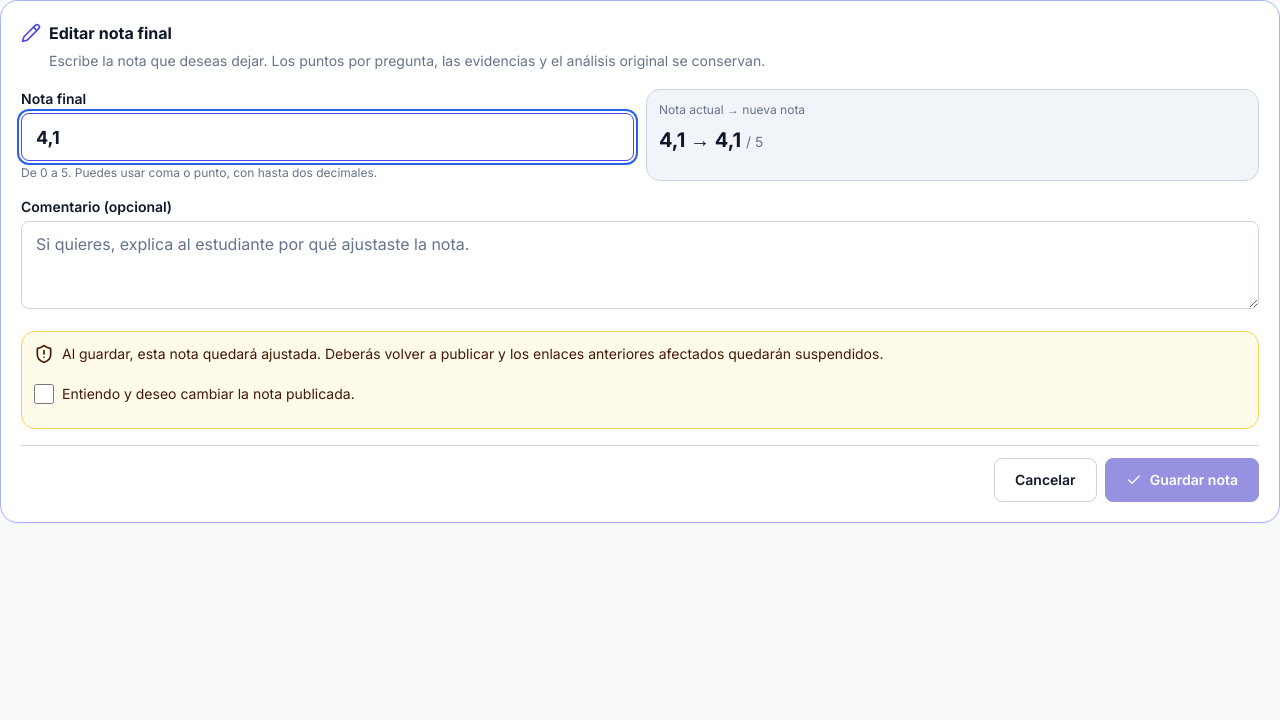
it: GradeFinalEditor › advierte antes de guardar una publicada y exige reconocer el efecto
The image size is (1280, 720).
Replace the text in the field labelled "Nota final" with "4.5". click: coordinates (328, 137)
box: [21,113,634,161]
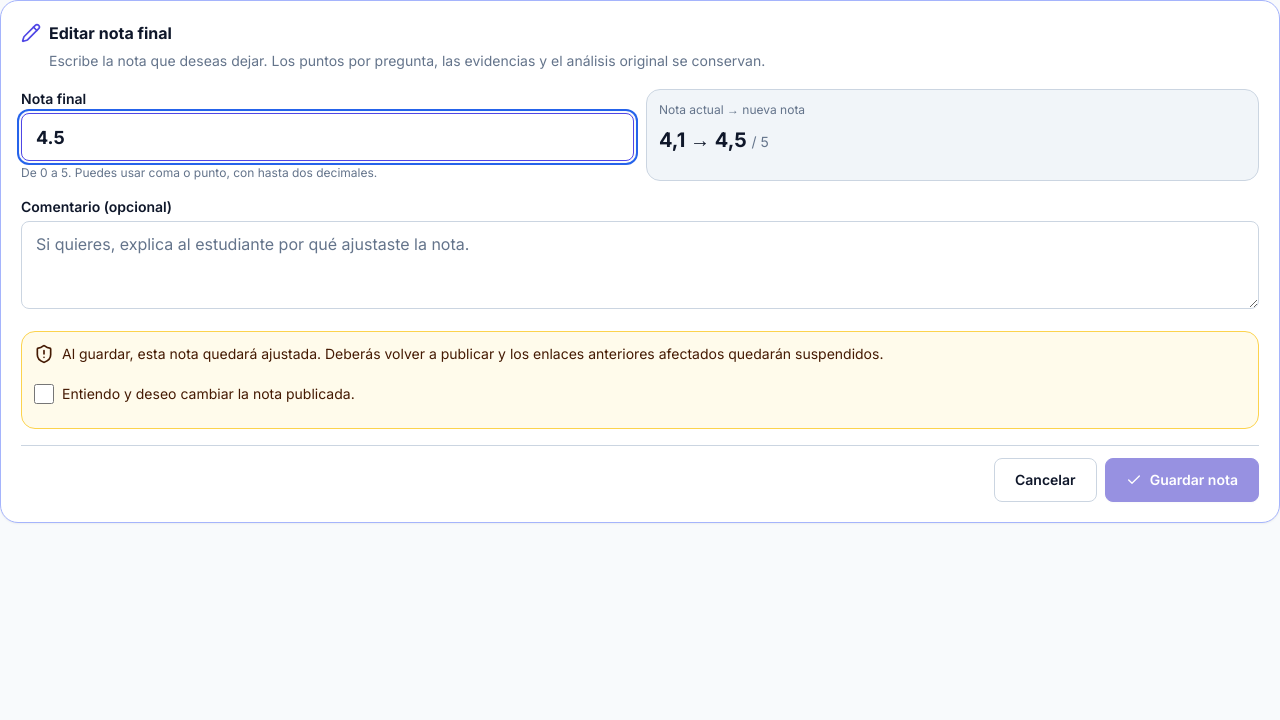
Expected: the text "volver a publicar" is shown, [62,345,884,362]
Expected: the button "Guardar nota" is disabled, [1105,458,1259,502]
Click the checkbox labelled "Entiendo y deseo cambiar la nota publicada.". click: coordinates (44, 394)
box: [34,384,54,404]
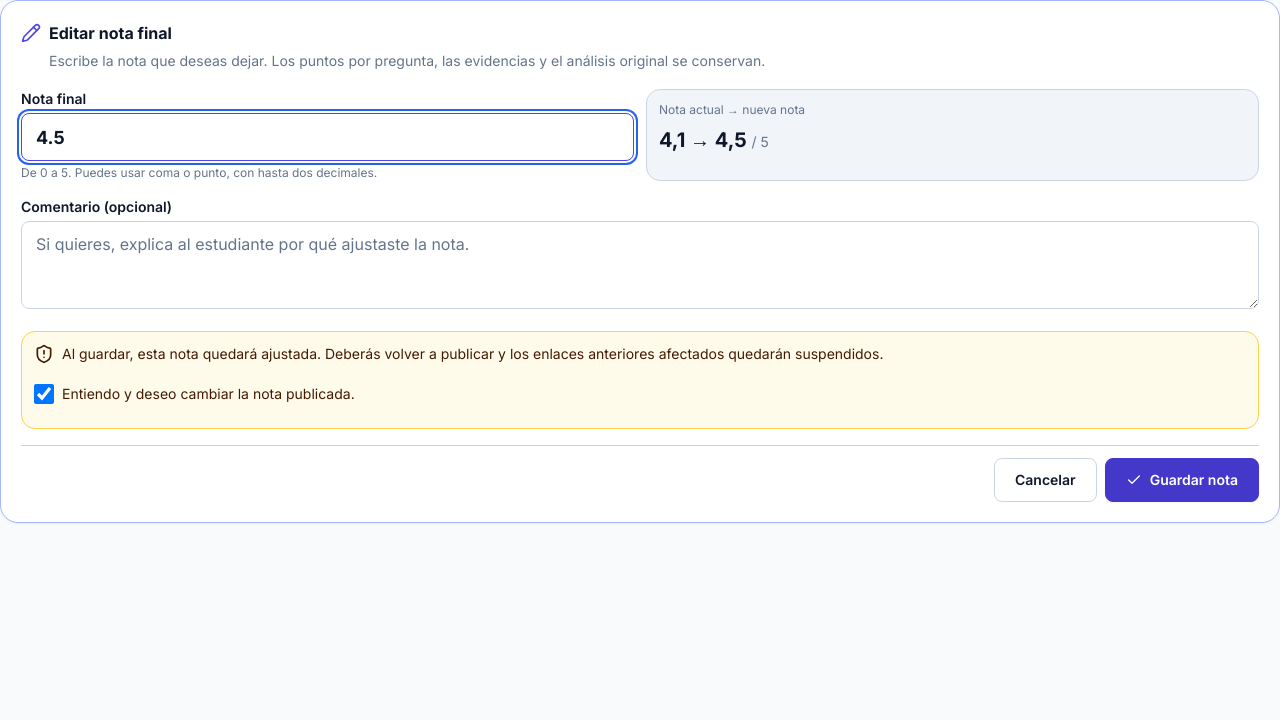
Expected: the button "Guardar nota" is enabled, [1105,458,1259,502]
